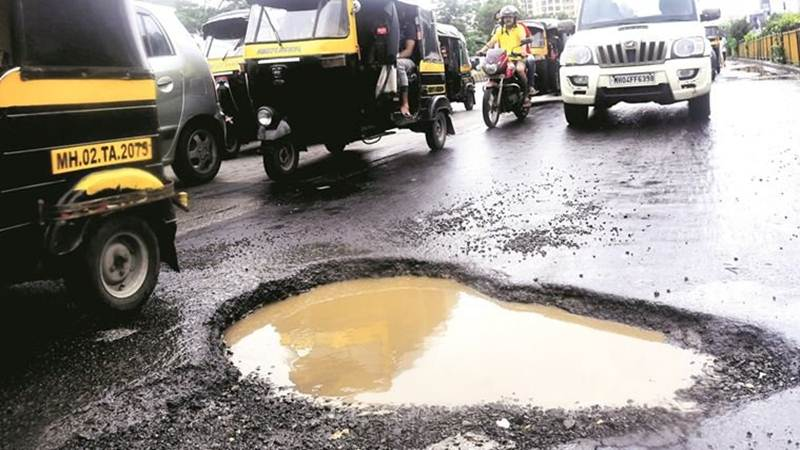pothole: (202, 220, 783, 417)
